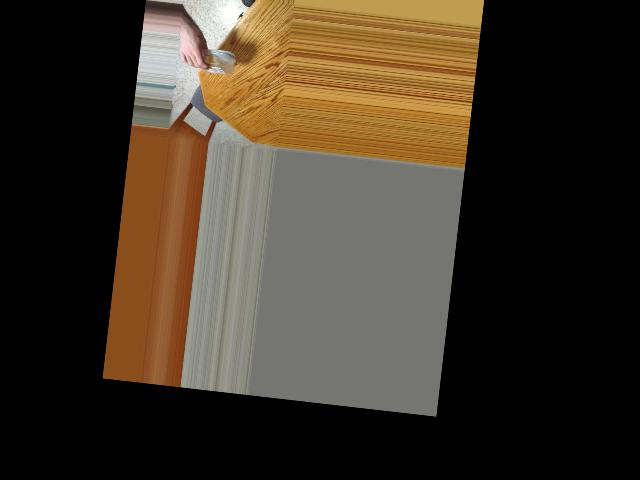cheese: (185, 38, 234, 82)
